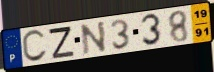3: (139, 12, 165, 48), (110, 18, 132, 51)
8: (167, 9, 190, 43)
C: (20, 28, 49, 64)
N: (79, 20, 108, 56)
Z: (47, 25, 76, 60)
